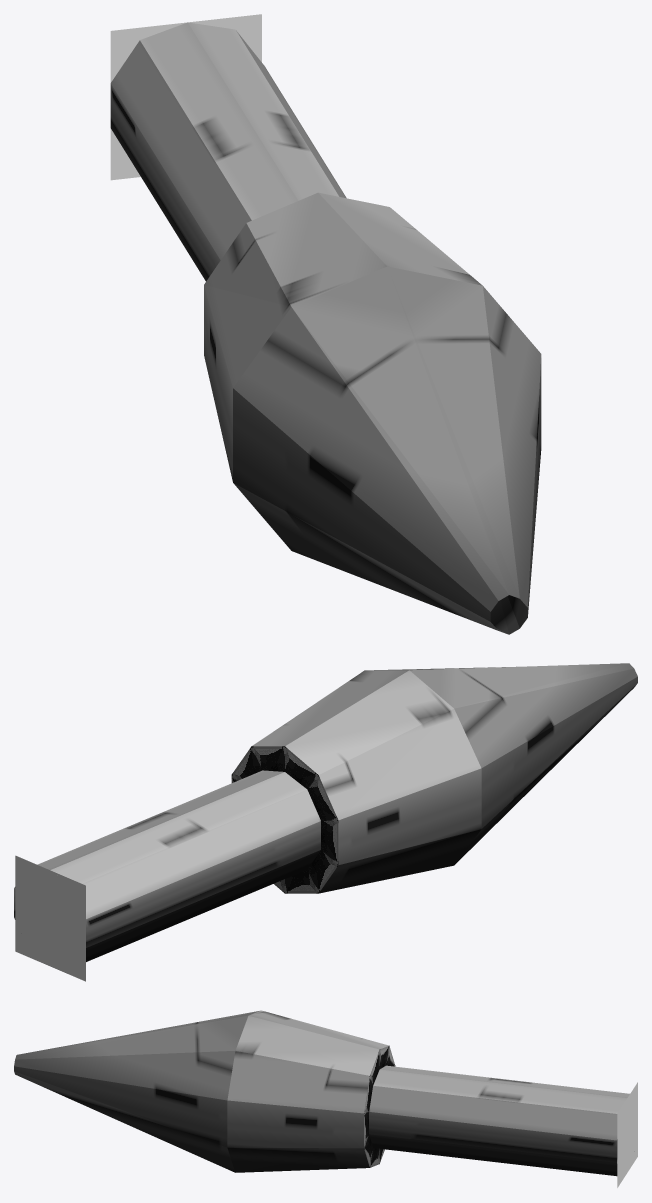
Rendered from primary_047.glb.
3 views of the same model, one above another, from view 1: azimuth 30°, elevation 25°; view 2: azimuth 150°, elevation 25°; view 3: azimuth 270°, elevation 25° (orthographic). The views are drawn at different scales.
Visible parts, largest first — view 1: Object; view 2: Object; view 3: Object.
Boxes of the visible parts, bbox=[...] form: Object: bbox=[110, 14, 541, 634]; Object: bbox=[14, 663, 637, 981]; Object: bbox=[14, 1010, 637, 1187].
Bounding box in the file's own units: 0.1802 × 0.138 × 0.5137.
26 materials, 24 textured.
